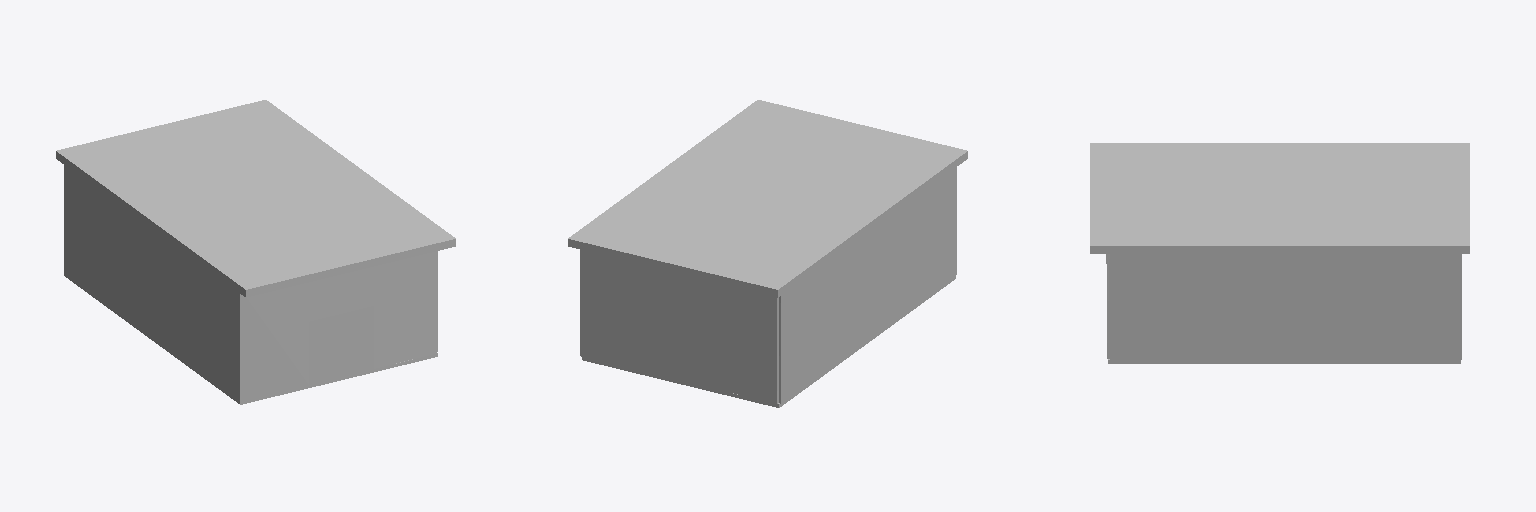
Rendered from collabroom.obj.
3 views of the same model, side by side, from view 1: azimuth 30°, elevation 25°; view 2: azimuth 150°, elevation 25°; view 3: azimuth 270°, elevation 25° (orthographic).
Visible parts, largest first — view 1: Cube, walls.004_Plane.036, walls.004_Plane.001, floor.004_Plane.037; view 2: Cube, walls.004_Plane.001, floor.004_Plane.037; view 3: Cube, walls.004_Plane.036, floor.004_Plane.037.
Boxes of the visible parts, x1=… form: Cube: x1=56, y1=100, x2=455, y2=297; walls.004_Plane.036: x1=241, y1=251, x2=437, y2=400; walls.004_Plane.001: x1=64, y1=165, x2=240, y2=401; floor.004_Plane.037: x1=64, y1=273, x2=437, y2=404; Cube: x1=568, y1=100, x2=967, y2=297; walls.004_Plane.001: x1=581, y1=167, x2=956, y2=403; floor.004_Plane.037: x1=582, y1=276, x2=955, y2=407; Cube: x1=1090, y1=143, x2=1469, y2=253; walls.004_Plane.036: x1=1107, y1=254, x2=1461, y2=359; floor.004_Plane.037: x1=1108, y1=359, x2=1460, y2=363.
Size of the model in its own units: 8.78 by 4.89 by 13.75.